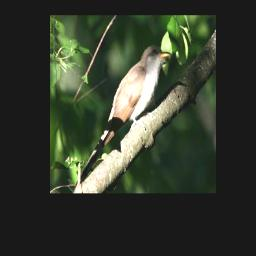Cuckoo: (76, 45, 171, 186)
